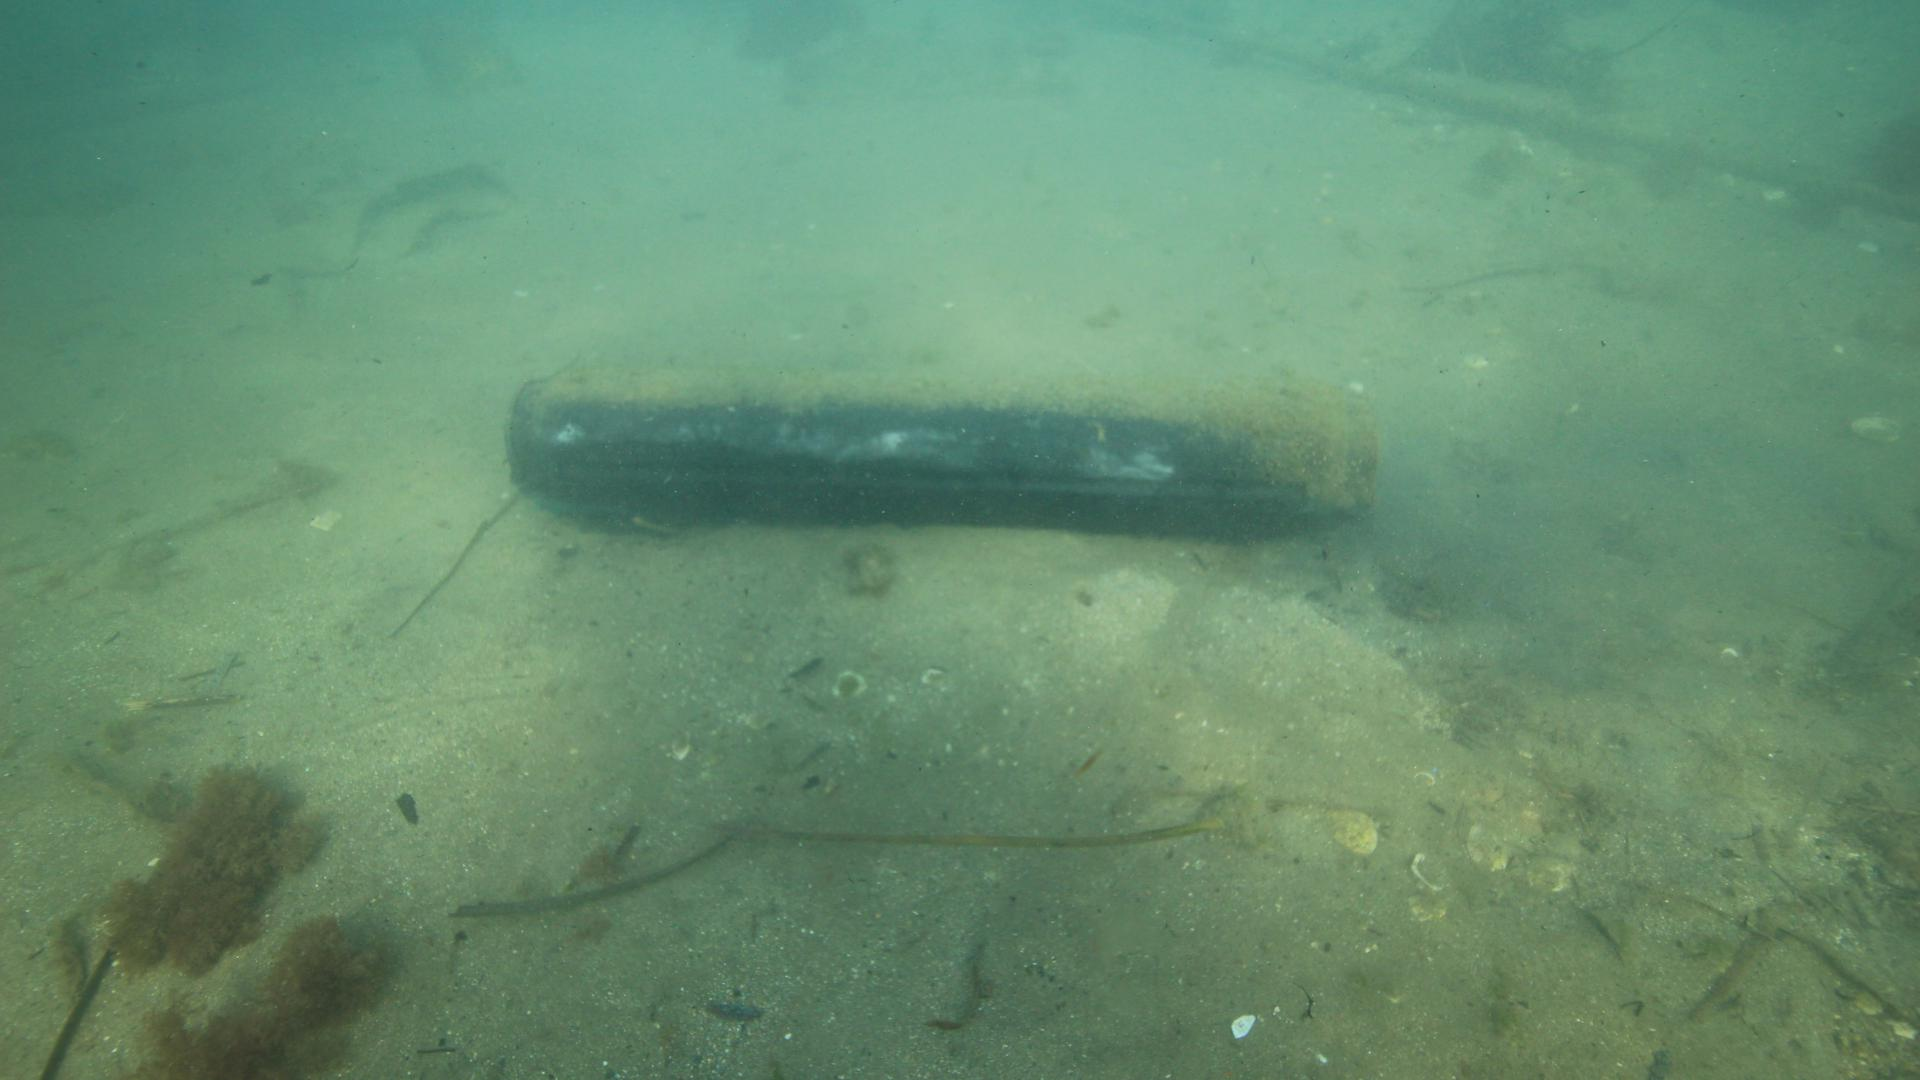eel fish trap: (497, 367, 1382, 534)
